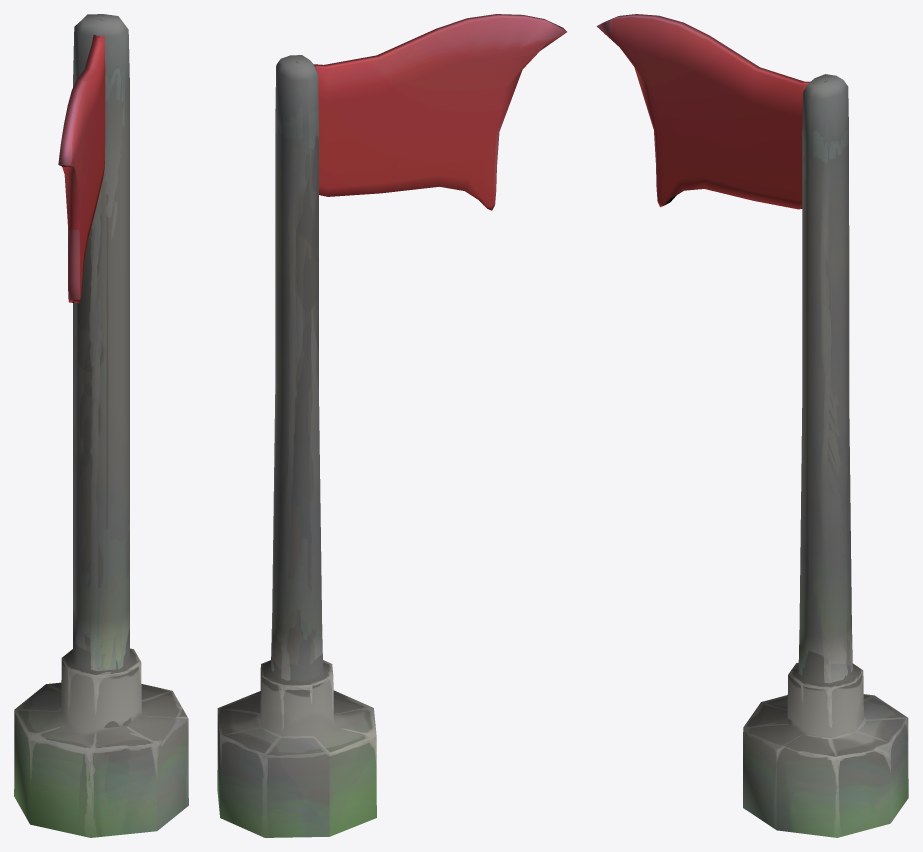
File: GuardFlag.fbx
3 views of the same model, side by side, from view 1: azimuth 30°, elevation 25°; view 2: azimuth 150°, elevation 25°; view 3: azimuth 270°, elevation 25° (orthographic). The views are drawn at different scales.
Visible parts, largest first — view 1: FlagPost; view 2: FlagPost; view 3: FlagPost.
Part boxes in pixels (left/top/right/bottom): FlagPost: left=14, top=14, right=188, bottom=837; FlagPost: left=217, top=14, right=566, bottom=837; FlagPost: left=596, top=14, right=908, bottom=837.
Bounding box in the file's own units: 95.32 × 299 × 115.
2 materials, 2 textured.
